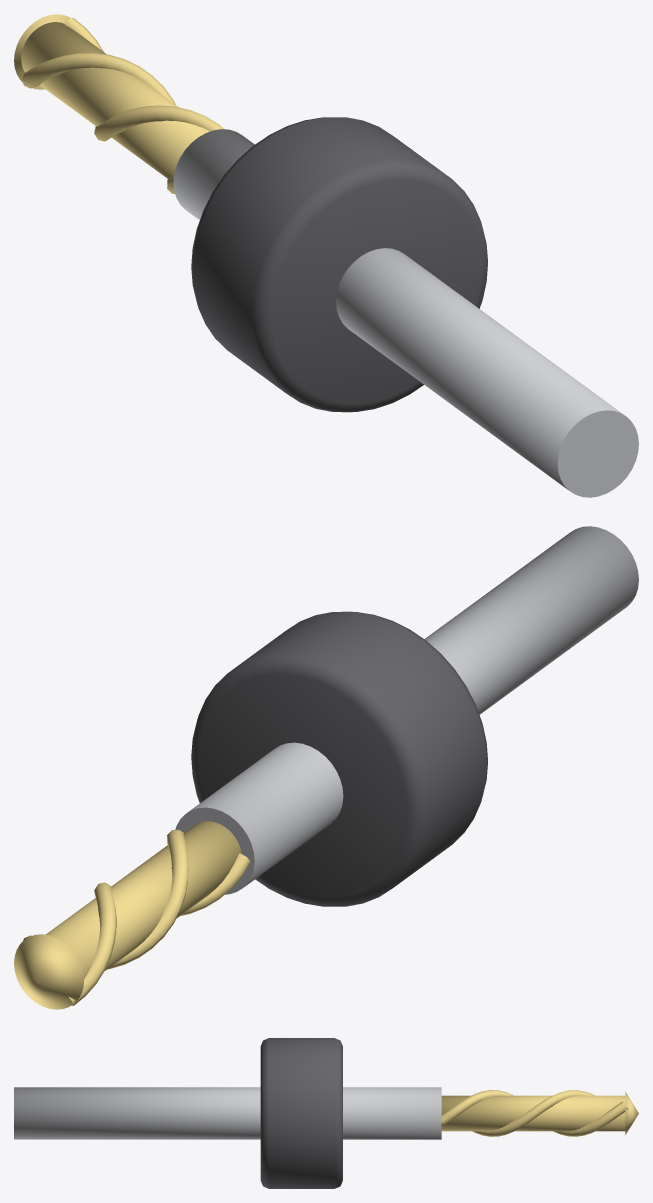
The model's file is drill18_2p8.glb.
3 renders of one model, top to bottom at view 1: azimuth 30°, elevation 25°; view 2: azimuth 150°, elevation 25°; view 3: azimuth 270°, elevation 25°, orthographic. The views are drawn at different scales.
Visible parts, largest first — view 1: Cylinder.002, Cylinder.001, Cylinder, flute.001, flute, Cone; view 2: Cylinder.002, Cylinder.001, Cylinder, Cone, flute.001, flute; view 3: Cylinder.001, Cylinder.002, Cylinder, flute, flute.001, Cone.
Boxes of the visible parts, x1=… form: Cylinder.002: x1=191, y1=117, x2=487, y2=412; Cylinder.001: x1=173, y1=129, x2=638, y2=497; Cylinder: x1=21, y1=22, x2=209, y2=179; flute.001: x1=22, y1=52, x2=175, y2=193; flute: x1=64, y1=18, x2=224, y2=141; Cone: x1=14, y1=14, x2=70, y2=89; Cylinder.002: x1=191, y1=611, x2=487, y2=906; Cylinder.001: x1=175, y1=526, x2=638, y2=894; Cylinder: x1=46, y1=821, x2=241, y2=978; Cone: x1=14, y1=934, x2=84, y2=1009; flute.001: x1=69, y1=853, x2=250, y2=1005; flute: x1=21, y1=830, x2=188, y2=969; Cylinder.001: x1=14, y1=1087, x2=441, y2=1139; Cylinder.002: x1=260, y1=1038, x2=342, y2=1188; Cylinder: x1=441, y1=1095, x2=625, y2=1131; flute: x1=441, y1=1090, x2=627, y2=1136; flute.001: x1=472, y1=1090, x2=594, y2=1136; Cone: x1=625, y1=1091, x2=638, y2=1135.
Bounding box in the file's own units: 0.00917 × 0.00917 × 0.038.
